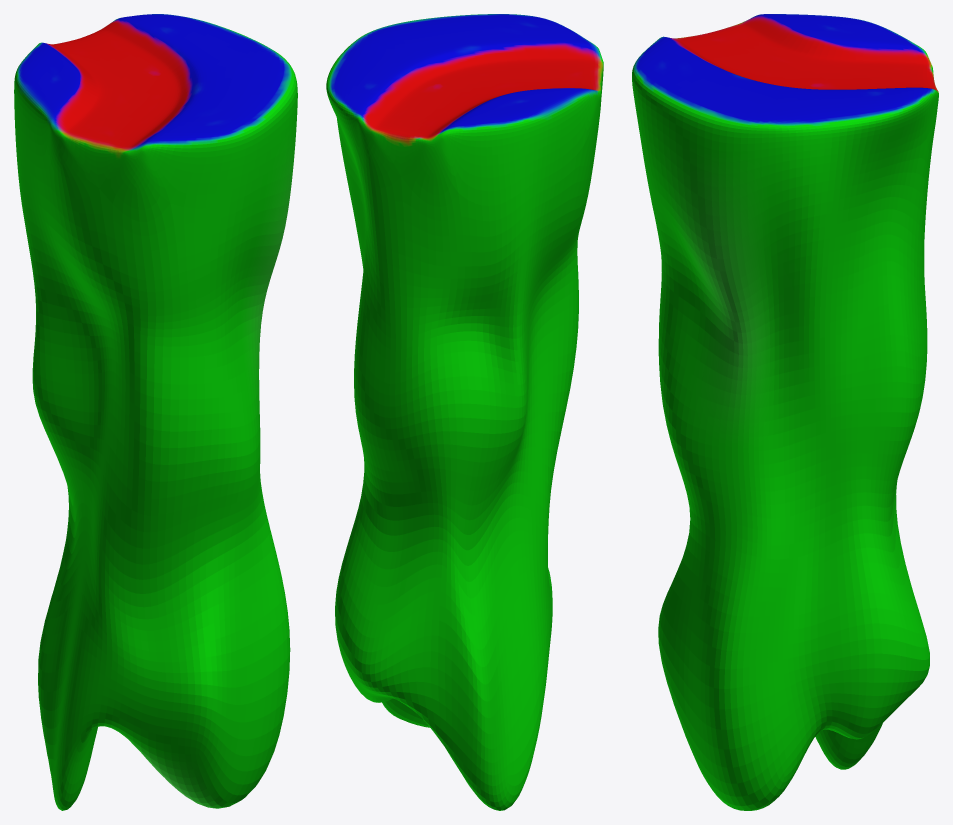
The model's file is level_one_platform_9.fbx.
3 views of the same model, side by side, from view 1: azimuth 30°, elevation 25°; view 2: azimuth 150°, elevation 25°; view 3: azimuth 270°, elevation 25° (orthographic). The views are drawn at different scales.
Visible parts, largest first — view 1: Platform07; view 2: Platform07; view 3: Platform07.
Part boxes in pixels (x1=…): Platform07: x1=14, y1=14, x2=297, y2=810; Platform07: x1=326, y1=14, x2=603, y2=810; Platform07: x1=632, y1=14, x2=938, y2=810.
Bounding box in the file's own units: 406 × 1185 × 450.
